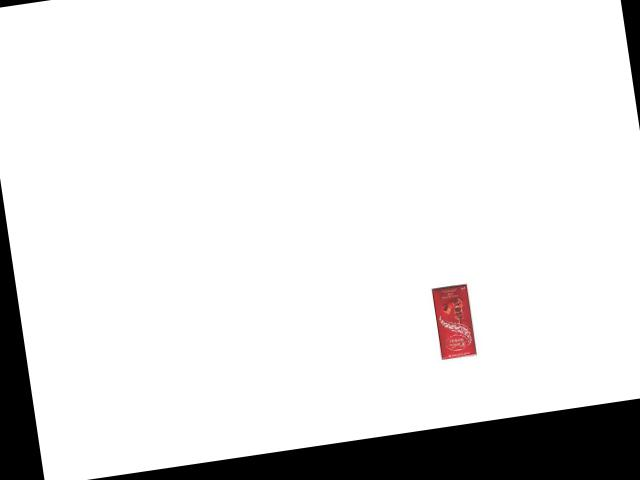chocolate: (429, 278, 479, 361)
